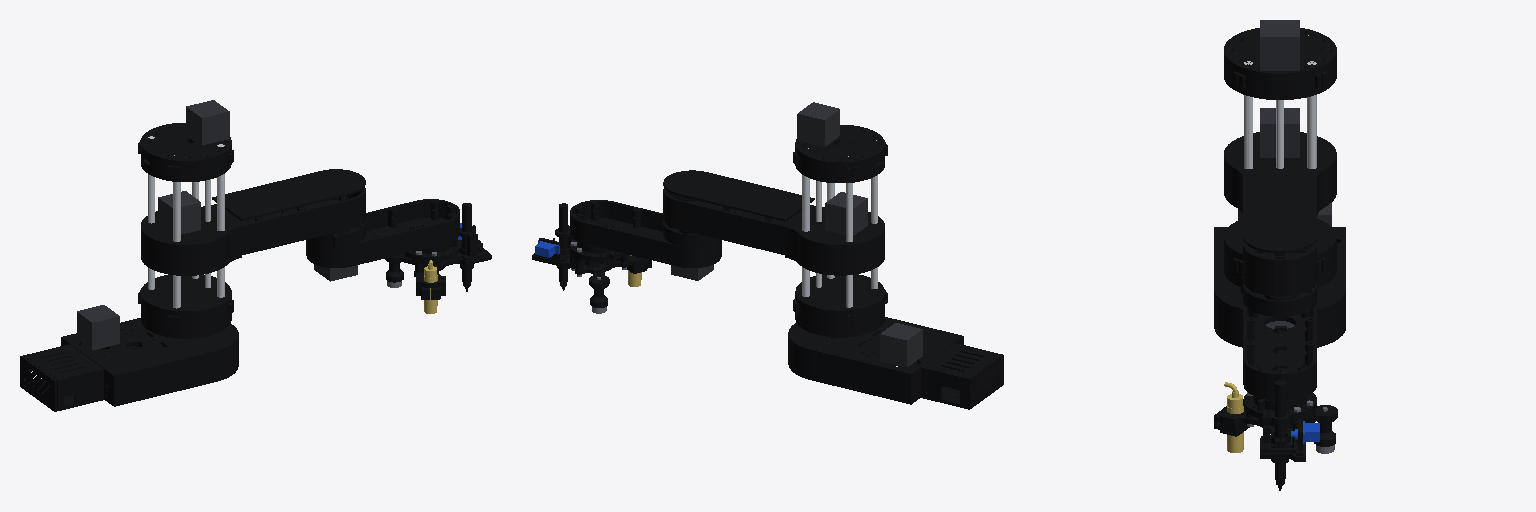
robot.urdf — mathbot_negro:
<?xml version="1.0"?>
<!-- MathBot negro: SCARA HowToMechatronics + cabezal de disco v3. Generado por
     matlab/avance2/fuente/exportar_modelo.py (no editar a mano). Unidades: m y rad.
     L1 = 228.0 mm, L2 = 144.0 mm, plumon a 55.0 mm de J3. TCP = origen del cuerpo 'plumon' (punta).
     JZ = altura de la base de la plataforma sobre la mesa; con JZ = 0.1505 m y JP = 0 la punta toca la mesa.
     Masas e inercias nominales: la simulacion es cinematica (movimiento impuesto en las juntas). -->
<robot name="mathbot_negro">
  <material name="negro"><color rgba="0.106 0.11 0.122 1"/></material>
  <material name="acero"><color rgba="0.79 0.81 0.83 1"/></material>
  <material name="motor"><color rgba="0.23 0.24 0.26 1"/></material>
  <material name="iman"><color rgba="0.45 0.47 0.5 1"/></material>
  <material name="sensor"><color rgba="0.8 0.72 0.4 1"/></material>
  <material name="servo"><color rgba="0.15 0.35 0.8 1"/></material>
  <link name="base_link">
    <inertial>
      <origin xyz="-0.100942 0.003528 0.022363" rpy="0 0 0"/>
      <mass value="0.3"/>
      <inertia ixx="5.4062e-04" ixy="0" ixz="0" iyy="2.1676e-03" iyz="0" izz="2.6070e-03"/>
    </inertial>
    <visual>
      <origin xyz="0 0 0" rpy="0 0 0"/>
      <geometry><mesh filename="meshes/base_link.stl"/></geometry>
      <material name="negro"/>
    </visual>
  </link>
  <link name="base_motor">
    <inertial>
      <origin xyz="-0.114000 0.034000 0.065000" rpy="0 0 0"/>
      <mass value="0.05"/>
      <inertia ixx="1.4017e-05" ixy="0" ixz="0" iyy="1.4017e-05" iyz="0" izz="1.4700e-05"/>
    </inertial>
    <visual>
      <origin xyz="0 0 0" rpy="0 0 0"/>
      <geometry><mesh filename="meshes/base_motor.stl"/></geometry>
      <material name="motor"/>
    </visual>
  </link>
  <link name="columna">
    <inertial>
      <origin xyz="0.000404 0.000223 0.181738" rpy="0 0 0"/>
      <mass value="0.3"/>
      <inertia ixx="2.2782e-03" ixy="0" ixz="0" iyy="2.2782e-03" iyz="0" izz="7.2000e-04"/>
    </inertial>
    <visual>
      <origin xyz="0 0 0" rpy="0 0 0"/>
      <geometry><mesh filename="meshes/columna.stl"/></geometry>
      <material name="negro"/>
    </visual>
  </link>
  <link name="columna_acero">
    <inertial>
      <origin xyz="0.006600 0.000000 0.195600" rpy="0 0 0"/>
      <mass value="0.05"/>
      <inertia ixx="2.8525e-04" ixy="0" ixz="0" iyy="2.8525e-04" iyz="0" izz="4.9665e-05"/>
    </inertial>
    <visual>
      <origin xyz="0 0 0" rpy="0 0 0"/>
      <geometry><mesh filename="meshes/columna_acero.stl"/></geometry>
      <material name="acero"/>
    </visual>
  </link>
  <link name="columna_motor">
    <inertial>
      <origin xyz="0.033000 0.000000 0.342000" rpy="0 0 0"/>
      <mass value="0.05"/>
      <inertia ixx="1.4017e-05" ixy="0" ixz="0" iyy="1.4017e-05" iyz="0" izz="1.4700e-05"/>
    </inertial>
    <visual>
      <origin xyz="0 0 0" rpy="0 0 0"/>
      <geometry><mesh filename="meshes/columna_motor.stl"/></geometry>
      <material name="motor"/>
    </visual>
  </link>
  <link name="carro">
    <inertial>
      <origin xyz="0.072360 0.000765 0.025601" rpy="0 0 0"/>
      <mass value="0.3"/>
      <inertia ixx="4.3840e-04" ixy="0" ixz="0" iyy="2.7516e-03" iyz="0" izz="3.0332e-03"/>
    </inertial>
    <visual>
      <origin xyz="0 0 0" rpy="0 0 0"/>
      <geometry><mesh filename="meshes/carro.stl"/></geometry>
      <material name="negro"/>
    </visual>
  </link>
  <link name="carro_motor">
    <inertial>
      <origin xyz="-0.010000 0.000000 0.065000" rpy="0 0 0"/>
      <mass value="0.05"/>
      <inertia ixx="1.4017e-05" ixy="0" ixz="0" iyy="1.4017e-05" iyz="0" izz="1.4700e-05"/>
    </inertial>
    <visual>
      <origin xyz="0 0 0" rpy="0 0 0"/>
      <geometry><mesh filename="meshes/carro_motor.stl"/></geometry>
      <material name="motor"/>
    </visual>
  </link>
  <link name="brazo2">
    <inertial>
      <origin xyz="0.038559 -0.000223 -0.030413" rpy="0 0 0"/>
      <mass value="0.3"/>
      <inertia ixx="2.3656e-04" ixy="0" ixz="0" iyy="1.3065e-03" iyz="0" izz="1.3918e-03"/>
    </inertial>
    <visual>
      <origin xyz="0 0 0" rpy="0 0 0"/>
      <geometry><mesh filename="meshes/brazo2.stl"/></geometry>
      <material name="negro"/>
    </visual>
  </link>
  <link name="brazo2_motor">
    <inertial>
      <origin xyz="0.000000 0.000000 -0.067000" rpy="0 0 0"/>
      <mass value="0.05"/>
      <inertia ixx="9.7500e-06" ixy="0" ixz="0" iyy="9.7500e-06" iyz="0" izz="1.4700e-05"/>
    </inertial>
    <visual>
      <origin xyz="0 0 0" rpy="0 0 0"/>
      <geometry><mesh filename="meshes/brazo2_motor.stl"/></geometry>
      <material name="motor"/>
    </visual>
  </link>
  <link name="cabezal">
    <inertial>
      <origin xyz="0.008033 0.000065 -0.032969" rpy="0 0 0"/>
      <mass value="0.3"/>
      <inertia ixx="5.8666e-04" ixy="0" ixz="0" iyy="6.1304e-04" iyz="0" izz="8.9939e-04"/>
    </inertial>
    <visual>
      <origin xyz="0 0 0" rpy="0 0 0"/>
      <geometry><mesh filename="meshes/cabezal.stl"/></geometry>
      <material name="negro"/>
    </visual>
  </link>
  <link name="cabezal_iman">
    <inertial>
      <origin xyz="-0.007790 0.013544 -0.049220" rpy="0 0 0"/>
      <mass value="0.05"/>
      <inertia ixx="5.9640e-05" ixy="0" ixz="0" iyy="4.3945e-05" iyz="0" izz="5.7084e-05"/>
    </inertial>
    <visual>
      <origin xyz="0 0 0" rpy="0 0 0"/>
      <geometry><mesh filename="meshes/cabezal_iman.stl"/></geometry>
      <material name="iman"/>
    </visual>
  </link>
  <link name="cabezal_sensor">
    <inertial>
      <origin xyz="-0.028410 -0.049234 -0.027069" rpy="0 0 0"/>
      <mass value="0.05"/>
      <inertia ixx="2.6155e-05" ixy="0" ixz="0" iyy="2.5734e-05" iyz="0" izz="3.1205e-06"/>
    </inertial>
    <visual>
      <origin xyz="0 0 0" rpy="0 0 0"/>
      <geometry><mesh filename="meshes/cabezal_sensor.stl"/></geometry>
      <material name="sensor"/>
    </visual>
  </link>
  <link name="cabezal_servo">
    <inertial>
      <origin xyz="0.067954 0.016800 -0.024131" rpy="0 0 0"/>
      <mass value="0.05"/>
      <inertia ixx="6.1182e-06" ixy="0" ixz="0" iyy="6.4633e-06" iyz="0" izz="8.4570e-06"/>
    </inertial>
    <visual>
      <origin xyz="0 0 0" rpy="0 0 0"/>
      <geometry><mesh filename="meshes/cabezal_servo.stl"/></geometry>
      <material name="servo"/>
    </visual>
  </link>
  <link name="plumon">
    <inertial>
      <origin xyz="0.002999 0.000037 0.044034" rpy="0 0 0"/>
      <mass value="0.3"/>
      <inertia ixx="4.2226e-04" ixy="0" ixz="0" iyy="4.2078e-04" iyz="0" izz="3.6591e-05"/>
    </inertial>
    <visual>
      <origin xyz="0 0 0" rpy="0 0 0"/>
      <geometry><mesh filename="meshes/plumon.stl"/></geometry>
      <material name="negro"/>
    </visual>
  </link>
  <joint name="fijo_base_motor" type="fixed">
    <parent link="base_link"/>
    <child link="base_motor"/>
    <origin xyz="0.000000 0.000000 0.000000" rpy="0 0 0"/>
  </joint>
  <joint name="J1" type="revolute">
    <parent link="base_link"/>
    <child link="columna"/>
    <origin xyz="0.000000 0.000000 0.000000" rpy="0 0 0"/>
    <axis xyz="0 0 1"/>
    <limit lower="-2.96706" upper="2.96706" effort="1000" velocity="10"/>
  </joint>
  <joint name="fijo_columna_acero" type="fixed">
    <parent link="columna"/>
    <child link="columna_acero"/>
    <origin xyz="0.000000 0.000000 0.000000" rpy="0 0 0"/>
  </joint>
  <joint name="fijo_columna_motor" type="fixed">
    <parent link="columna"/>
    <child link="columna_motor"/>
    <origin xyz="0.000000 0.000000 0.000000" rpy="0 0 0"/>
  </joint>
  <joint name="JZ" type="prismatic">
    <parent link="columna"/>
    <child link="carro"/>
    <origin xyz="0.000000 0.000000 0.000000" rpy="0 0 0"/>
    <axis xyz="0 0 1"/>
    <limit lower="0.10000" upper="0.21000" effort="1000" velocity="10"/>
  </joint>
  <joint name="fijo_carro_motor" type="fixed">
    <parent link="carro"/>
    <child link="carro_motor"/>
    <origin xyz="0.000000 0.000000 0.000000" rpy="0 0 0"/>
  </joint>
  <joint name="J2" type="revolute">
    <parent link="carro"/>
    <child link="brazo2"/>
    <origin xyz="0.228000 0.000000 0.003000" rpy="0 0 0"/>
    <axis xyz="0 0 1"/>
    <limit lower="-2.96706" upper="2.96706" effort="1000" velocity="10"/>
  </joint>
  <joint name="fijo_brazo2_motor" type="fixed">
    <parent link="brazo2"/>
    <child link="brazo2_motor"/>
    <origin xyz="0.000000 0.000000 0.000000" rpy="0 0 0"/>
  </joint>
  <joint name="J3" type="revolute">
    <parent link="brazo2"/>
    <child link="cabezal"/>
    <origin xyz="0.144000 0.000000 -0.057000" rpy="0 0 0"/>
    <axis xyz="0 0 1"/>
    <limit lower="-3.05433" upper="3.05433" effort="1000" velocity="10"/>
  </joint>
  <joint name="fijo_cabezal_iman" type="fixed">
    <parent link="cabezal"/>
    <child link="cabezal_iman"/>
    <origin xyz="0.000000 0.000000 0.000000" rpy="0 0 0"/>
  </joint>
  <joint name="fijo_cabezal_sensor" type="fixed">
    <parent link="cabezal"/>
    <child link="cabezal_sensor"/>
    <origin xyz="0.000000 0.000000 0.000000" rpy="0 0 0"/>
  </joint>
  <joint name="fijo_cabezal_servo" type="fixed">
    <parent link="cabezal"/>
    <child link="cabezal_servo"/>
    <origin xyz="0.000000 0.000000 0.000000" rpy="0 0 0"/>
  </joint>
  <joint name="JP" type="prismatic">
    <parent link="cabezal"/>
    <child link="plumon"/>
    <origin xyz="0.055000 0.000000 -0.096500" rpy="0 0 0"/>
    <axis xyz="0 0 1"/>
    <limit lower="0.00000" upper="0.02000" effort="1000" velocity="10"/>
  </joint>
</robot>

--- What the picture shows (computed from the rendered views, not written in the file) ---
Views: 3 orthographic renders of the robot side by side, from view 1: azimuth 30°, elevation 25°; view 2: azimuth 150°, elevation 25°; view 3: azimuth 270°, elevation 25°.
Robot: mathbot_negro — 14 links, 13 joints (3 revolute, 2 prismatic, 8 fixed); root link base_link; default pose: all joints at 0 but 1 set to mid-range because 0 is outside their limits (JZ = 0.155).
Visible links, largest first — view 1: carro, base_link, columna, brazo2, cabezal, columna_acero, columna_motor, base_motor, carro_motor, plumon; view 2: carro, base_link, columna, brazo2, cabezal, columna_acero, columna_motor, base_motor, carro_motor, plumon; view 3: carro, columna, brazo2, base_link, cabezal, columna_motor, columna_acero, carro_motor, plumon, cabezal_sensor.
Boxes of the visible links, x1=… form: carro: x1=141, y1=169, x2=365, y2=275; base_link: x1=20, y1=318, x2=238, y2=411; columna: x1=138, y1=123, x2=233, y2=338; brazo2: x1=306, y1=199, x2=459, y2=267; cabezal: x1=385, y1=225, x2=491, y2=299; columna_acero: x1=148, y1=136, x2=224, y2=308; columna_motor: x1=186, y1=100, x2=229, y2=145; base_motor: x1=77, y1=305, x2=119, y2=349; carro_motor: x1=158, y1=191, x2=200, y2=235; plumon: x1=460, y1=203, x2=479, y2=291; carro: x1=663, y1=170, x2=884, y2=275; base_link: x1=788, y1=317, x2=1003, y2=409; columna: x1=793, y1=125, x2=887, y2=338; brazo2: x1=570, y1=200, x2=721, y2=267; cabezal: x1=532, y1=225, x2=651, y2=307; columna_acero: x1=802, y1=140, x2=877, y2=307; columna_motor: x1=797, y1=102, x2=839, y2=146; base_motor: x1=880, y1=323, x2=922, y2=367; carro_motor: x1=825, y1=192, x2=867, y2=235; plumon: x1=559, y1=203, x2=569, y2=290; carro: x1=1224, y1=132, x2=1336, y2=295; columna: x1=1224, y1=28, x2=1336, y2=287; brazo2: x1=1241, y1=276, x2=1316, y2=400; base_link: x1=1214, y1=209, x2=1345, y2=347; cabezal: x1=1214, y1=393, x2=1337, y2=463; columna_motor: x1=1260, y1=20, x2=1299, y2=70; columna_acero: x1=1244, y1=35, x2=1316, y2=168; carro_motor: x1=1260, y1=108, x2=1299, y2=157; plumon: x1=1271, y1=380, x2=1294, y2=490; cabezal_sensor: x1=1224, y1=382, x2=1243, y2=452.
Size in the robot's own frame: 0.686 by 0.1405 by 0.362 metres.
14 mesh visuals loaded from 14 distinct referenced files (14 binary STL).
